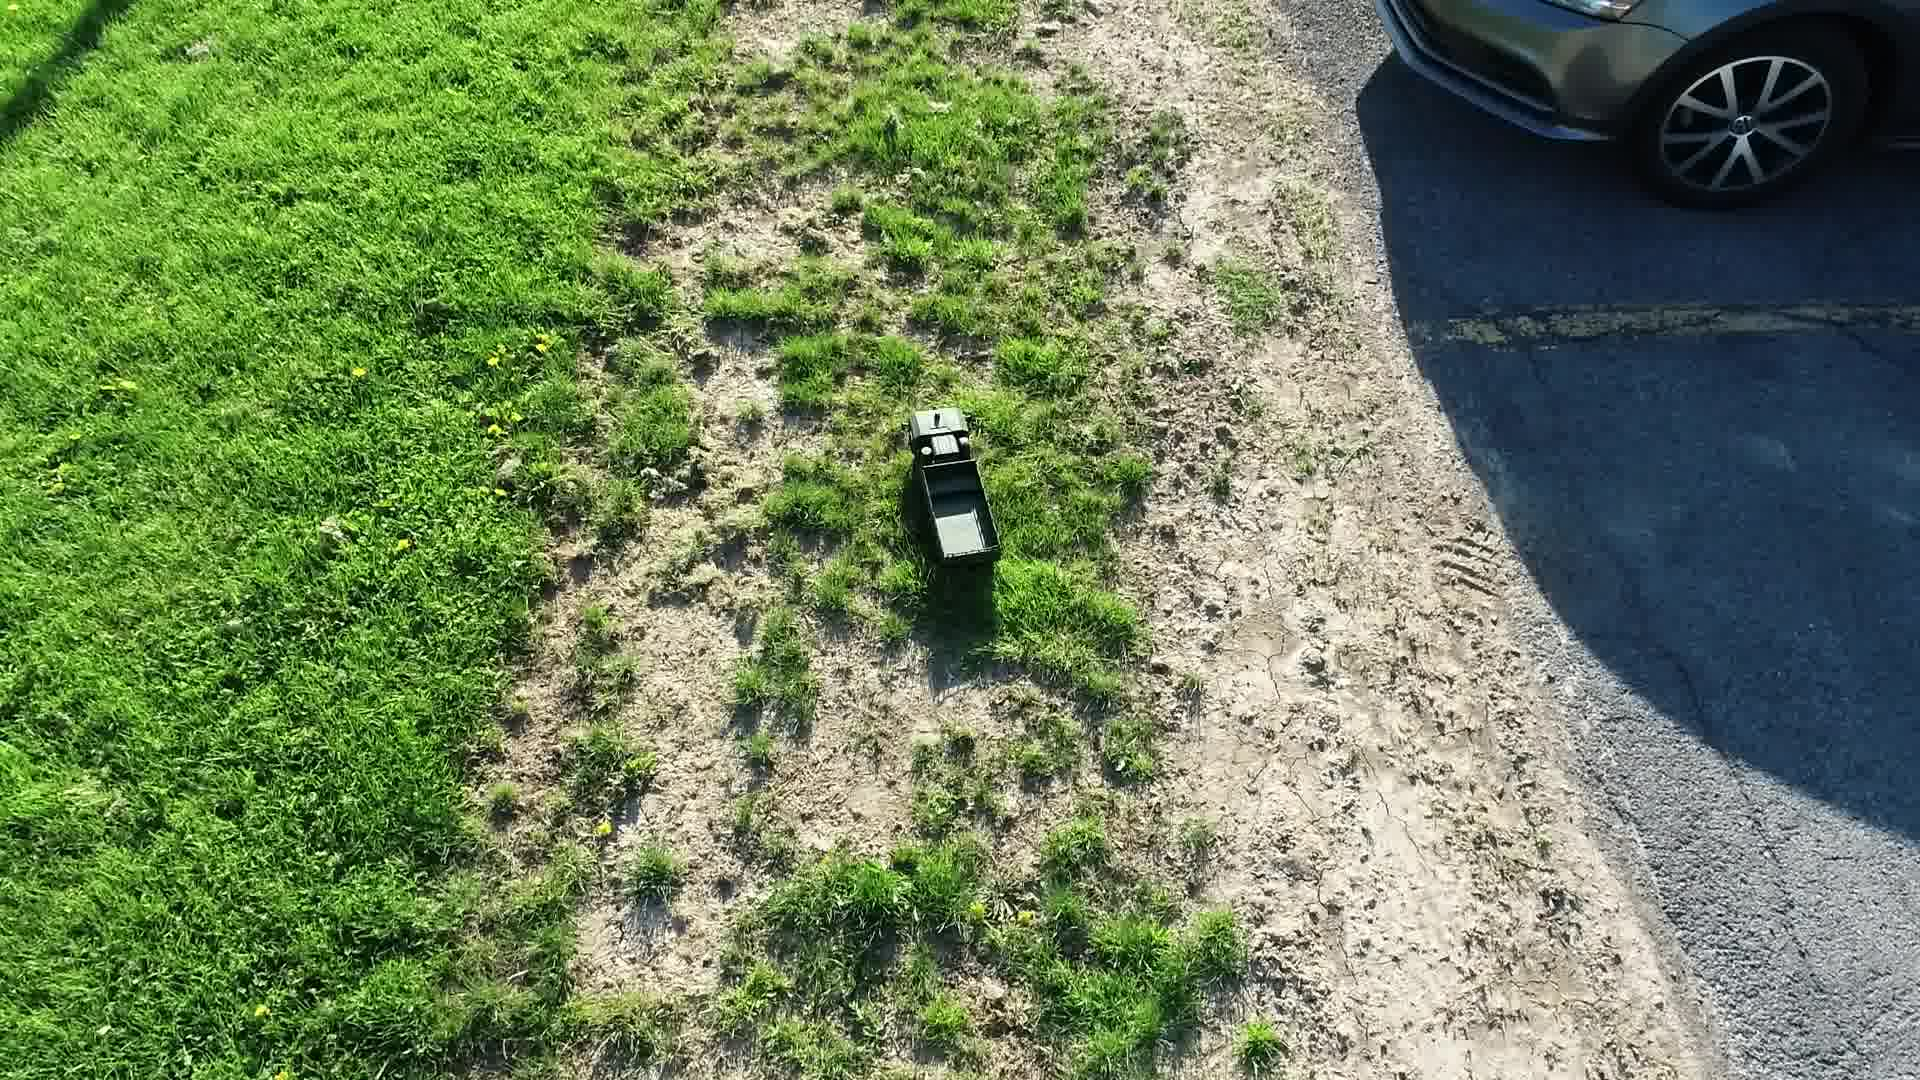transporter9: (897, 398, 1007, 601)
